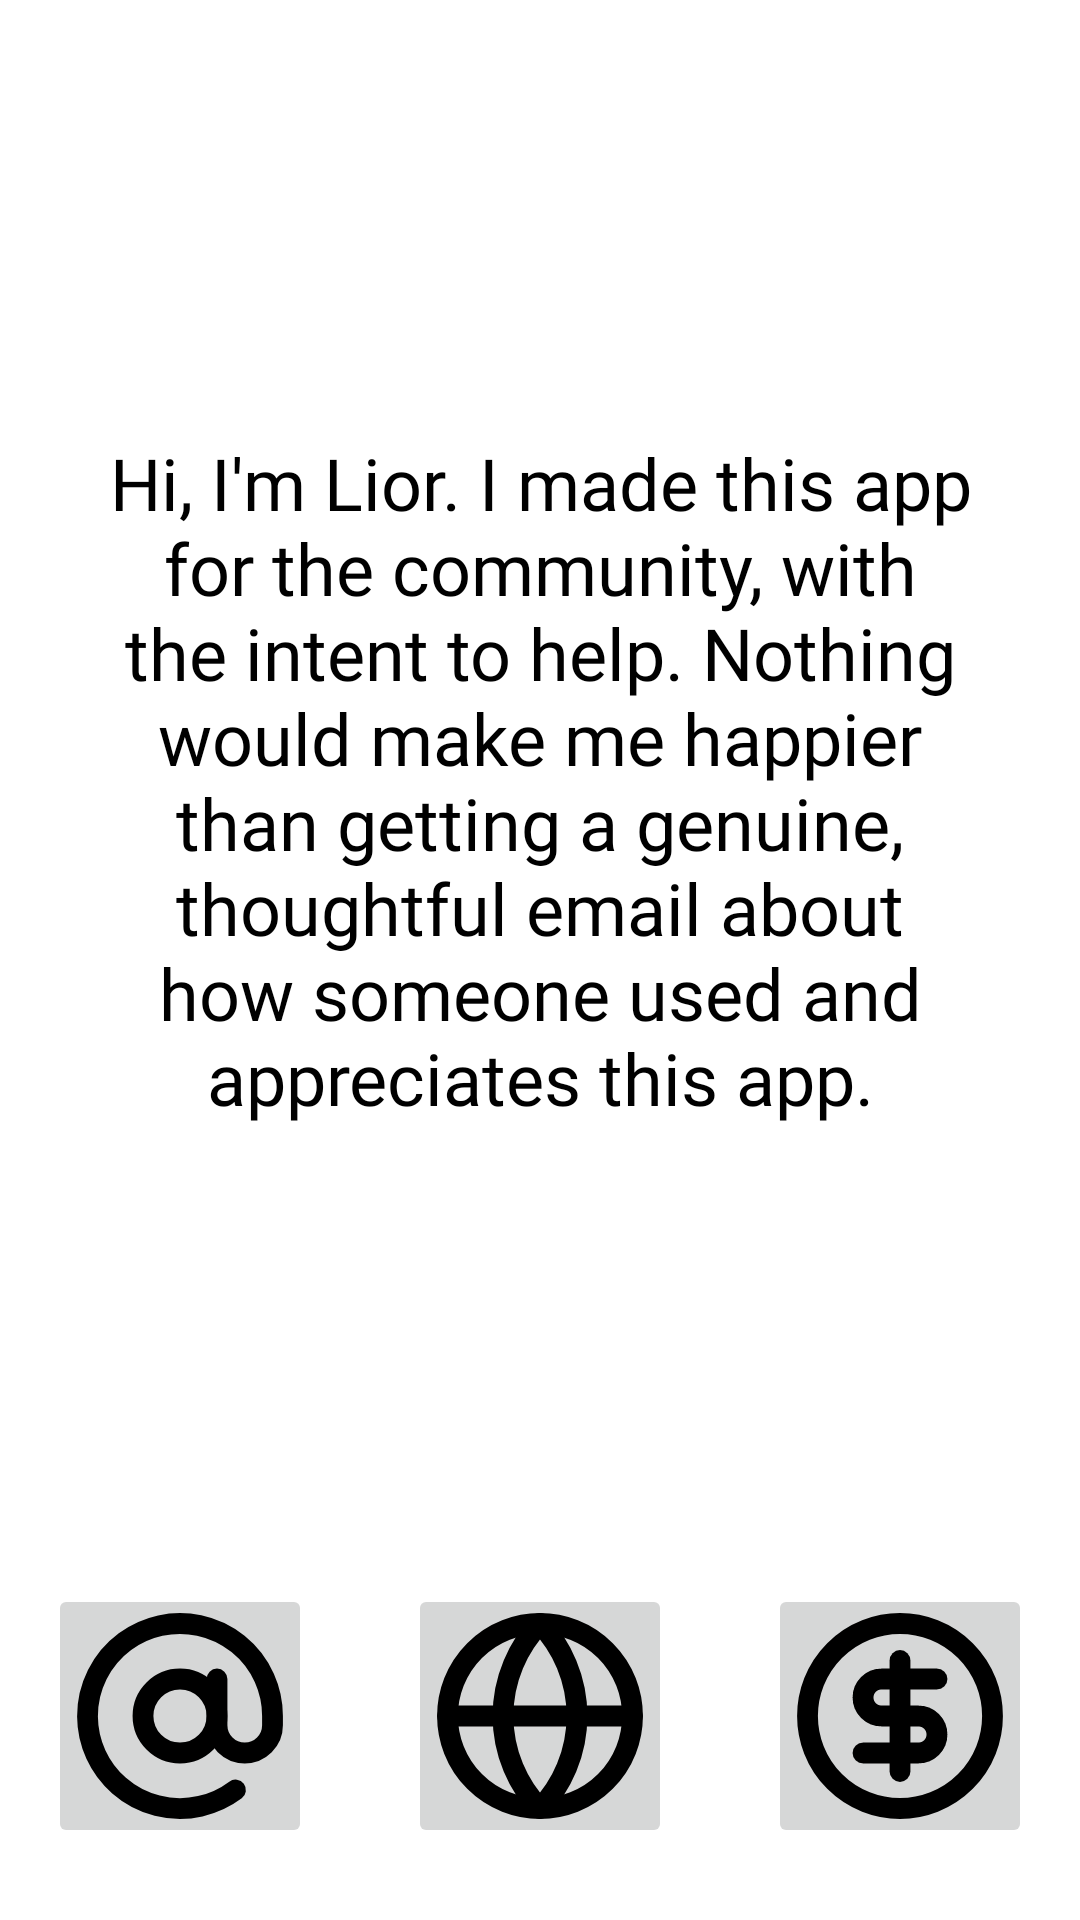

Screen size 1080×1920. Icon name, then its center in pixels as point (x, y):
Buy me a Beer: point (900, 1716)
My website: point (540, 1716)
